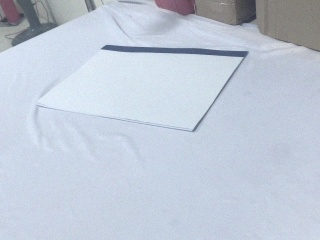box: (258, 1, 320, 55), (195, 1, 258, 26)
